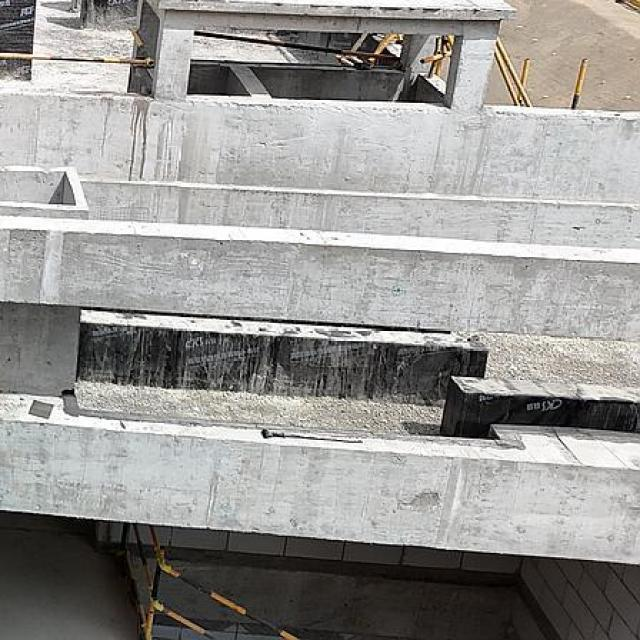edge_guardrail: (0, 28, 159, 68), (193, 30, 397, 59)
